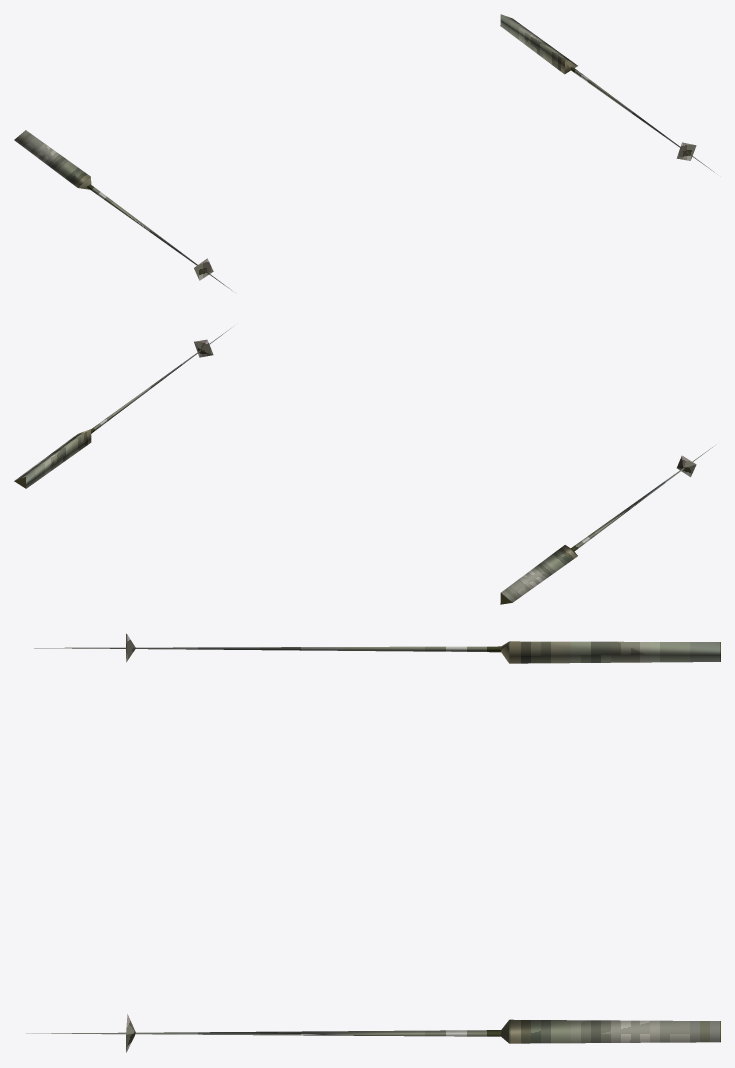
The model's file is z95_weapon_s01_l2.fbx.
3 renders of one model, top to bottom at view 1: azimuth 30°, elevation 25°; view 2: azimuth 150°, elevation 25°; view 3: azimuth 270°, elevation 25°, orthographic. The views are drawn at different scales.
Visible parts, largest first — view 1: mesh_node; view 2: mesh_node; view 3: mesh_node.
Boxes of the visible parts, x1,y1,x2,y2 form: mesh_node: (14,14,714,290); mesh_node: (14,326,716,604); mesh_node: (26,633,720,1052).
Size of the model in its own units: 15.24 by 0.594 by 11.35.
Materials: 1 (1 with a texture image).
